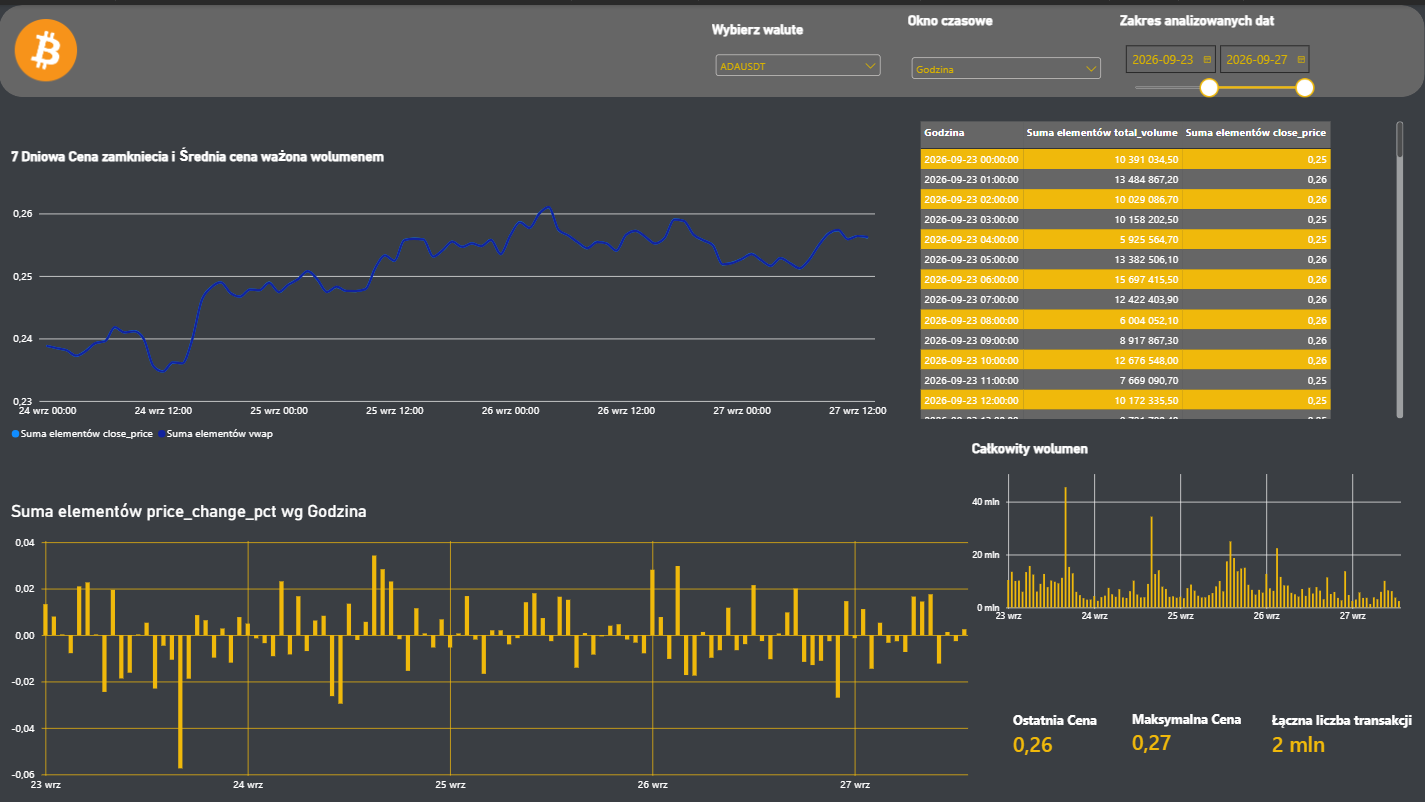

This screenshot's page, from the dashboard's own definition file:
{"tool":"powerbi","page":{"name":"Strona 1","canvas":[1920,1080],"ordinal":0},"visuals":[{"type":"lineChart","title":"7 Dniowa Cena zamkniecia i Średnia cena ważona wolumenem ","fields":{"Category":["market_candles_1h.candle_time"],"Y":["Sum(market_candles_1h.close_price)","Sum(market_candles_1h.vwap)"]},"box":[0,177.8,1224.1,429.6],"z":0},{"type":"clusteredColumnChart","title":"Całkowity wolumen","fields":{"Category":["market_candles_1h.candle_time"],"Y":["Sum(market_candles_1h.total_volume)"]},"box":[1293.5,572.6,626,280],"z":1000},{"type":"cardVisual","fields":{"Data":["market_candles_1m.OstatniaCena"]},"box":[1348.9,882.8,214.3,197.8],"z":2000},{"type":"cardVisual","fields":{"Data":["Max(public market_candles_1m.high_price)"]},"box":[1509.3,908.3,235.3,146.9],"z":3000},{"type":"cardVisual","fields":{"Data":["Sum(public market_candles_1m.trade_count)"]},"box":[1698.2,882.8,221.8,197.8],"z":4000},{"type":"clusteredColumnChart","fields":{"Category":["market_candles_1h.candle_time"],"Y":["Sum(market_candles_1h.price_change_pct)"]},"box":[0,655,1338.5,425.7],"z":5000},{"type":"tableEx","fields":{"Values":["market_candles_1h.candle_time","Sum(market_candles_1h.total_volume)","Sum(market_candles_1h.close_price)"]},"box":[1224.5,142.4,683.5,430.2],"z":6000},{"type":"shape","box":[0,0,1920,124],"z":7000},{"type":"slicer","title":"Zakres analizowanych dat","fields":{"Values":["market_candles_1h.candle_time"]},"box":[1510,8.8,265,168],"z":8000},{"type":"image","box":[16.5,19.5,94.4,83.9],"z":9000},{"type":"slicer","title":"Wybierz walute","fields":{"Values":["Wymiar_Symboli.symbol"]},"box":[960.1,21.5,231.6,160.2],"z":10000},{"type":"slicer","title":"Okno czasowe","fields":{"Values":["Parametr.Parametr"]},"box":[1224.5,9,265,168],"z":11000}]}

Visuals, with their boxes in screenshot pixels (x1, y1, x2, y2), scaled from the page's 1920x1080 canvas onto the 1425x802 screenshot:
"7 Dniowa Cena zamkniecia i Średnia cena ważona wolumenem " lineChart: x1=0, y1=132, x2=909, y2=451
"Całkowity wolumen" clusteredColumnChart: x1=960, y1=425, x2=1424, y2=633
cardVisual - market_candles_1m.OstatniaCena: x1=1001, y1=656, x2=1160, y2=801
cardVisual - Max(public market_candles_1m.high_price): x1=1120, y1=674, x2=1295, y2=784
cardVisual - Sum(public market_candles_1m.trade_count): x1=1260, y1=656, x2=1424, y2=801
clusteredColumnChart - market_candles_1h.candle_time x Sum(market_candles_1h.price_change_pct): x1=0, y1=486, x2=993, y2=801
tableEx - market_candles_1h.candle_time x Sum(market_candles_1h.total_volume): x1=909, y1=106, x2=1416, y2=425
shape: x1=0, y1=0, x2=1424, y2=92
"Zakres analizowanych dat" slicer: x1=1121, y1=7, x2=1317, y2=131
image: x1=12, y1=14, x2=82, y2=77
"Wybierz walute" slicer: x1=713, y1=16, x2=884, y2=135
"Okno czasowe" slicer: x1=909, y1=7, x2=1105, y2=131
